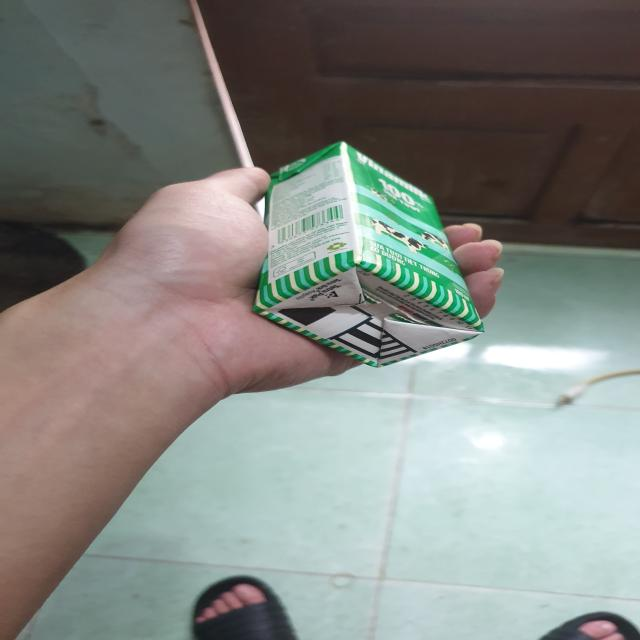Vina: (252, 144, 489, 368)
